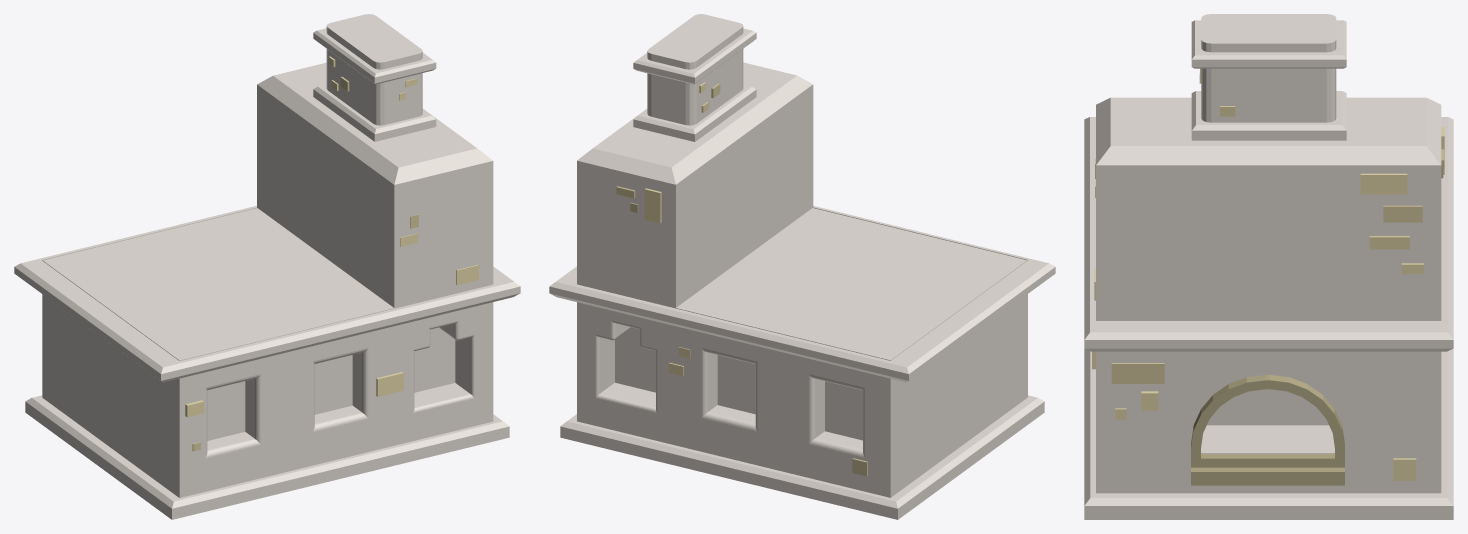
The model's file is STOVE.fbx.
3 renders of one model, left to right at view 1: azimuth 30°, elevation 25°; view 2: azimuth 150°, elevation 25°; view 3: azimuth 270°, elevation 25°, orthographic. The views are drawn at different scales.
Visible parts, largest first — view 1: Cube.001, Cube.002, Cube, Cube.026, Cube.025, Cube.032; view 2: Cube.001, Cube.002, Cube, Cube.026, Cube.025, Cube.032, Cube.014; view 3: Cube.001, Cube.002, Cube, Cube.026, Cube.024, Cube.025, Cube.032, Cube.003, Cube.017, Cube.018, Cube.019, Cube.006.
Boxes of the visible parts, bbox=[...] form: Cube.001: bbox=[42, 62, 493, 497]; Cube.002: bbox=[14, 205, 520, 382]; Cube: bbox=[25, 395, 509, 519]; Cube.026: bbox=[326, 14, 422, 125]; Cube.025: bbox=[313, 84, 436, 141]; Cube.032: bbox=[313, 28, 436, 84]; Cube.001: bbox=[577, 62, 1027, 497]; Cube.002: bbox=[549, 206, 1055, 382]; Cube: bbox=[560, 395, 1044, 519]; Cube.026: bbox=[647, 14, 743, 125]; Cube.025: bbox=[633, 85, 756, 141]; Cube.032: bbox=[633, 28, 756, 84]; Cube.014: bbox=[644, 188, 661, 223]; Cube.001: bbox=[1096, 97, 1441, 493]; Cube.002: bbox=[1084, 117, 1453, 351]; Cube: bbox=[1084, 348, 1453, 519]; Cube.026: bbox=[1201, 14, 1336, 122]; Cube.024: bbox=[1191, 375, 1344, 485]; Cube.025: bbox=[1191, 91, 1346, 140]; Cube.032: bbox=[1191, 20, 1346, 68]; Cube.003: bbox=[1111, 363, 1164, 383]; Cube.017: bbox=[1360, 173, 1407, 194]; Cube.018: bbox=[1383, 205, 1422, 222]; Cube.019: bbox=[1369, 236, 1409, 249]; Cube.006: bbox=[1393, 458, 1416, 480].
Size of the model in its own units: 854 by 818 by 604.
